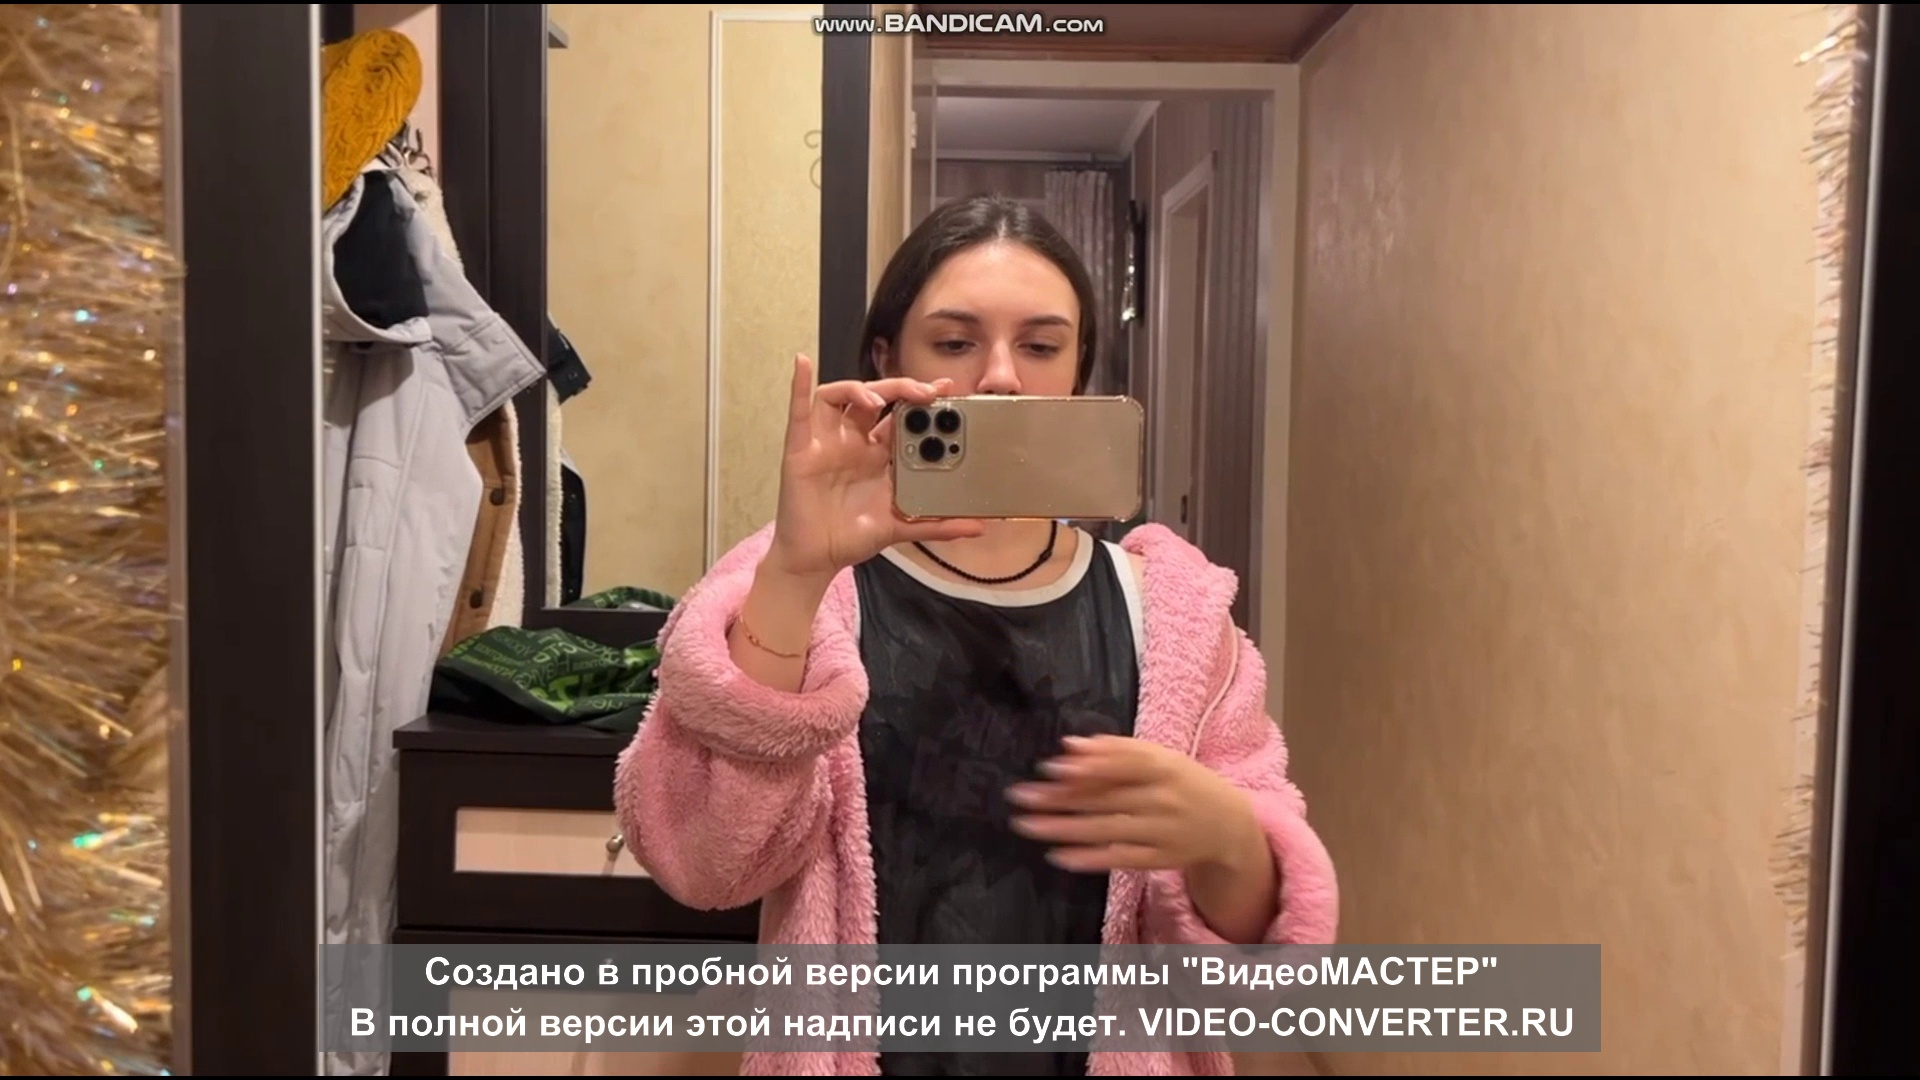Кисть: (1004, 731, 1238, 874)
